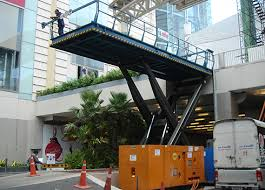Scissor Lift: (41, 1, 214, 190)
